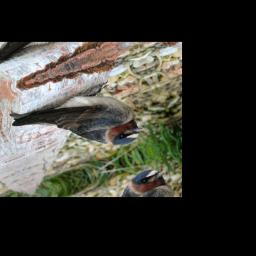Swallow: (4, 70, 151, 181)
